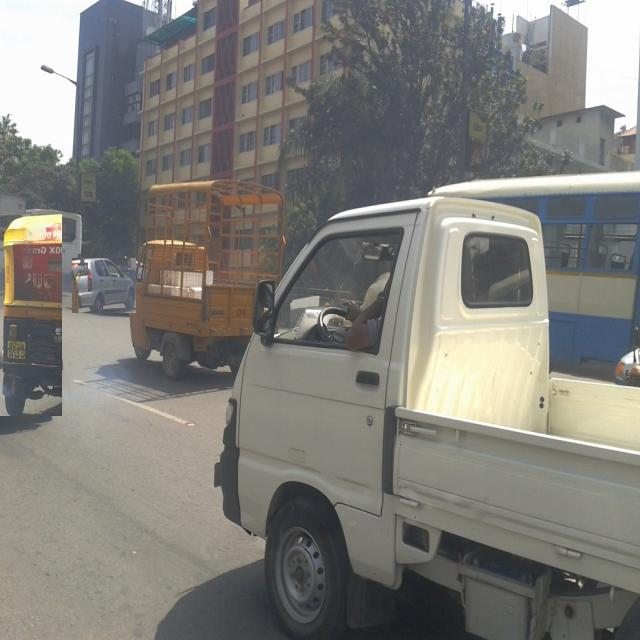autorickshaw: (0, 215, 62, 416)
car: (72, 259, 136, 313)
truck: (215, 197, 640, 638), (131, 180, 285, 377)
